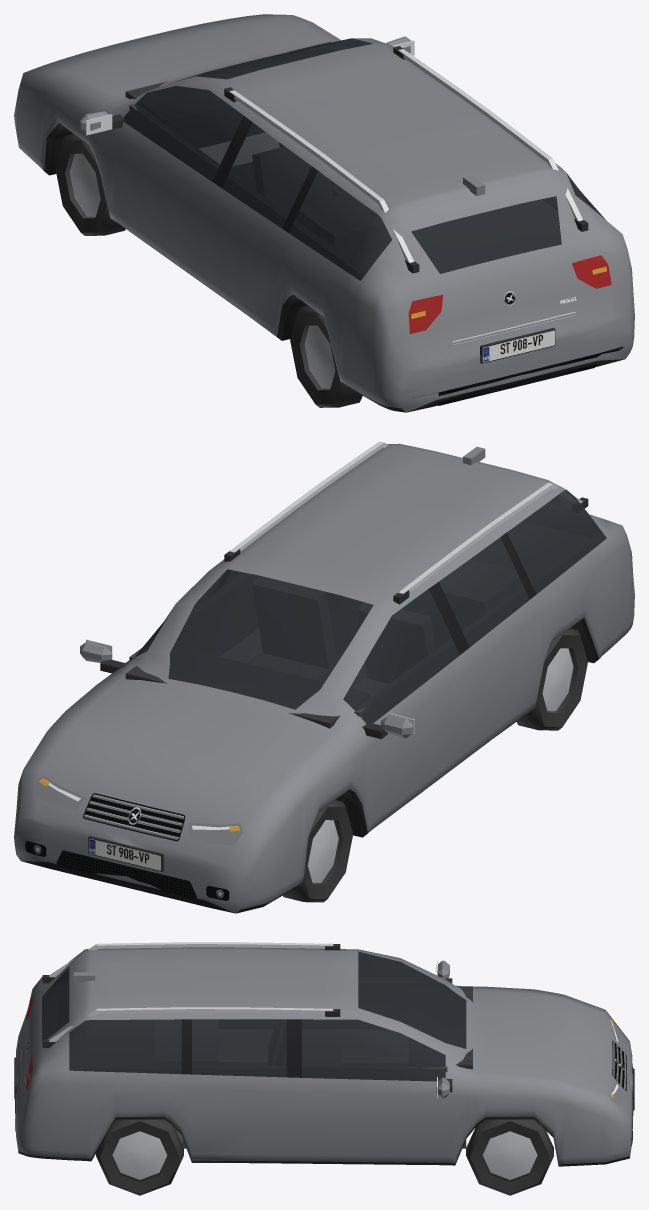
Rendered from prolaz_lod1.glb.
The picture shows the model from 3 angles, top to bottom: view 1: azimuth 30°, elevation 25°; view 2: azimuth 150°, elevation 25°; view 3: azimuth 270°, elevation 25°; orthographic projection. The views are drawn at different scales.
Parts seen in each view (by area): view 1: body, wheelmesh_0, wheelmesh_2; view 2: body, wheelmesh_2, wheelmesh_0; view 3: body, wheelmesh_1, wheelmesh_3.
Part boxes in pixels (x1,y1,x2,y2): body: (14, 14, 634, 412); wheelmesh_0: (55, 133, 125, 235); wheelmesh_2: (290, 305, 362, 407); body: (14, 441, 634, 913); wheelmesh_2: (517, 628, 587, 730); wheelmesh_0: (283, 800, 353, 902); body: (14, 942, 634, 1166); wheelmesh_1: (466, 1119, 553, 1195); wheelmesh_3: (96, 1119, 183, 1195).
Bounding box in the file's own units: 2.36 × 1.51 × 4.84.
18 materials, 1 textured.
